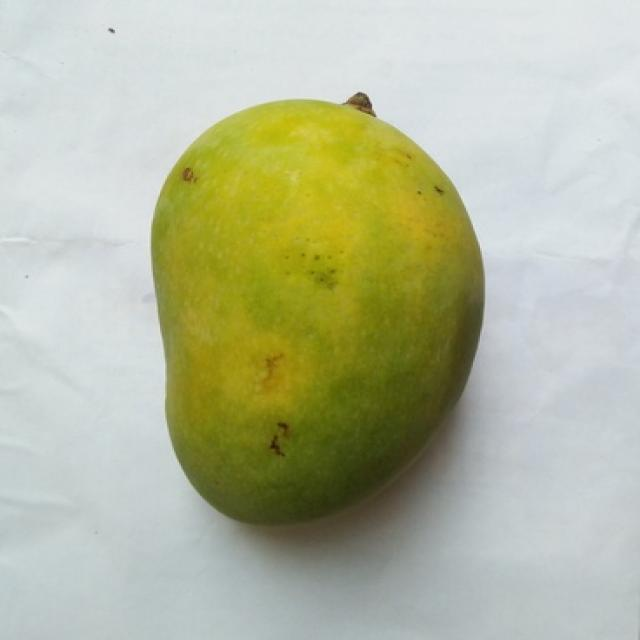Mango: (151, 94, 483, 523)
